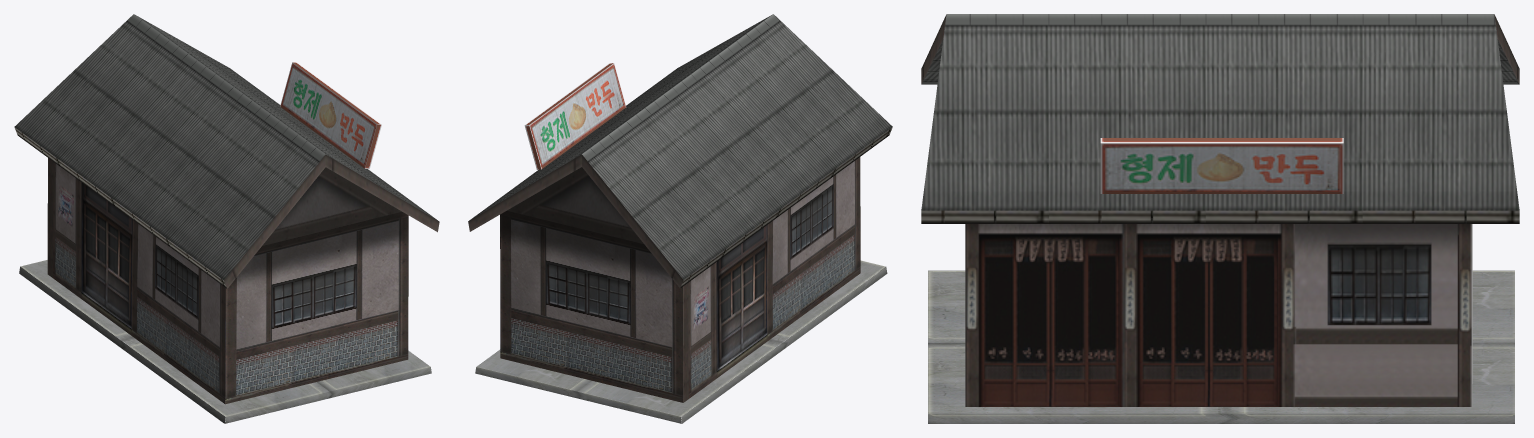
File: mandoo_house.FBX
3 renders of one model, left to right at view 1: azimuth 30°, elevation 25°; view 2: azimuth 150°, elevation 25°; view 3: azimuth 270°, elevation 25°, orthographic. The views are drawn at different scales.
Parts seen in each view (by area): view 1: Object014, Object015; view 2: Object014, Object015; view 3: Object014, Object015.
Part boxes in pixels (x1,y1,x2,y2): Object014: [14, 14, 439, 423]; Object015: [280, 62, 381, 169]; Object014: [468, 14, 892, 423]; Object015: [524, 63, 626, 169]; Object014: [921, 14, 1519, 423]; Object015: [1100, 138, 1343, 193].
Bounding box in the file's own units: 22.77 × 23.5 × 37.41.
Materials: 3 (3 with a texture image).
